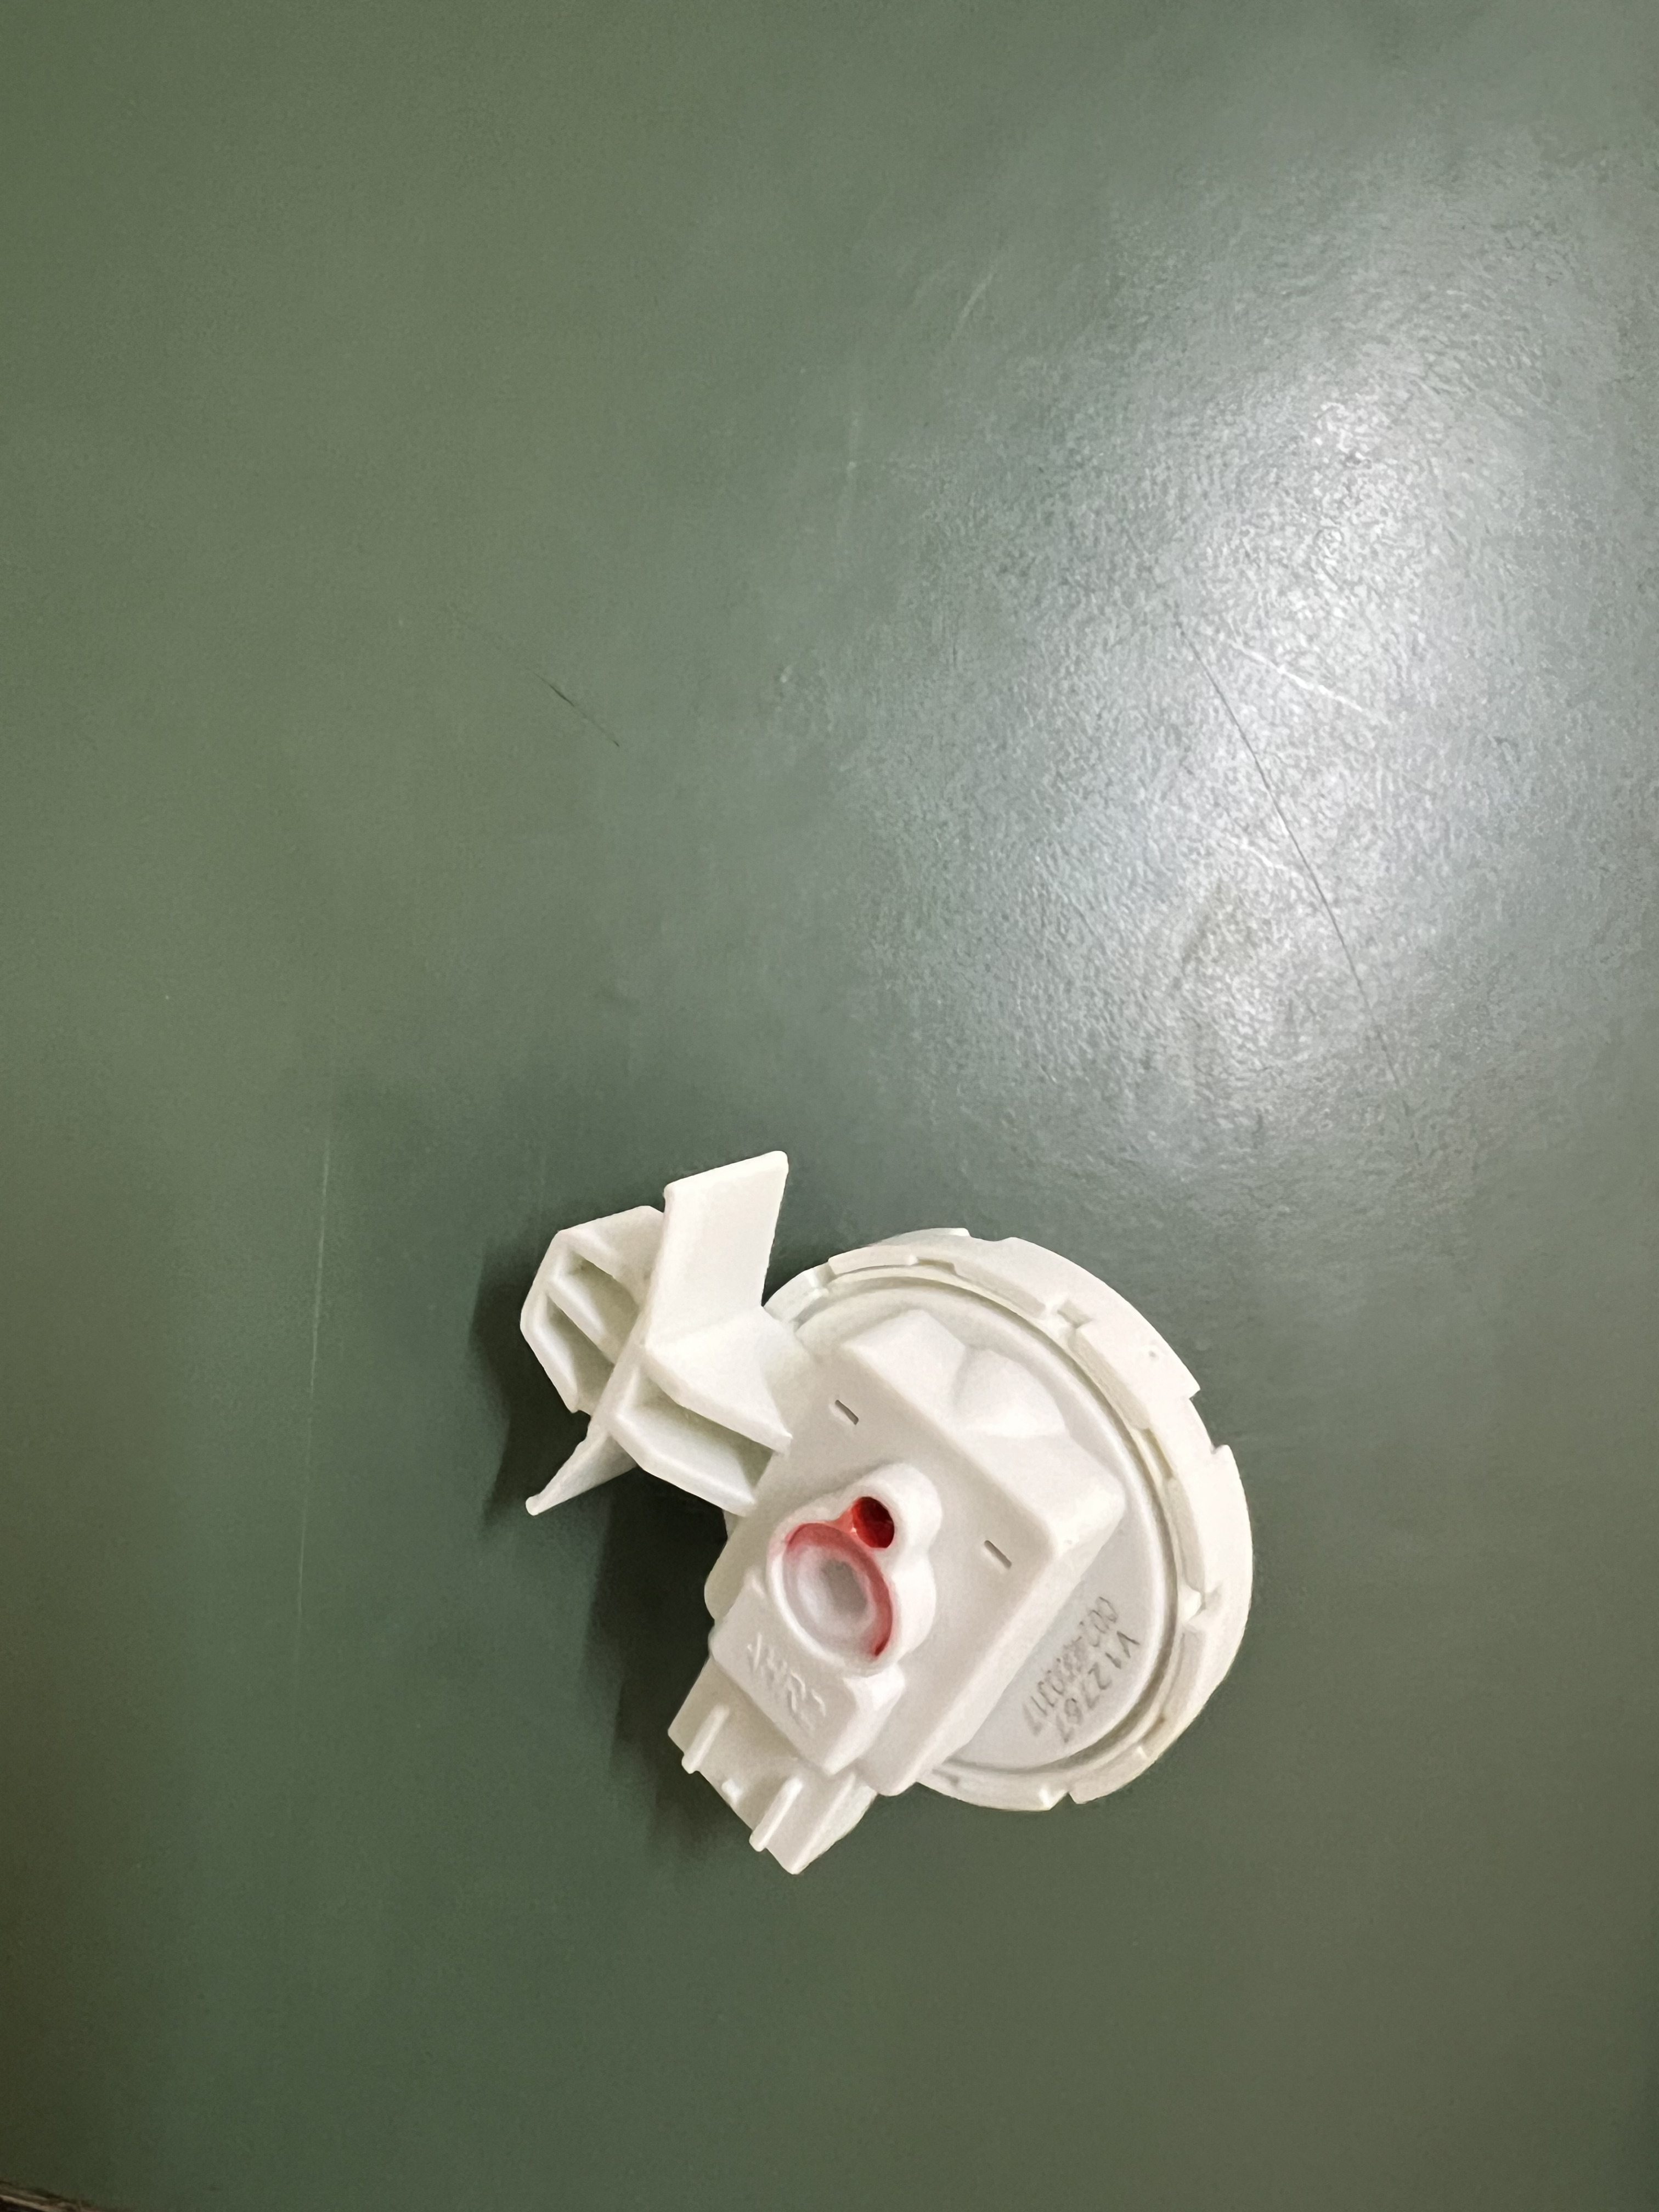pressure_switch_2: (528, 1177, 1281, 1888)
